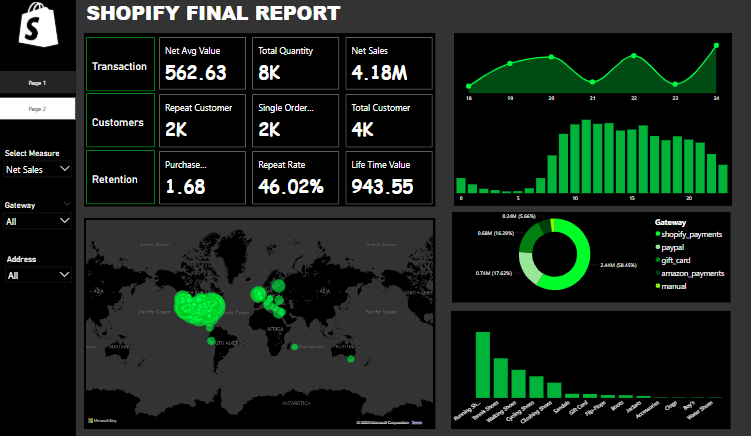

What the dashboard file says about the page in this screenshot:
{"tool":"powerbi","page":{"name":"Page 1","canvas":[1700,1000],"ordinal":0},"visuals":[{"type":"shape","box":[0,0,174.4,1000],"z":0},{"type":"textbox","box":[192.3,0,794.1,86],"z":1000},{"type":"shape","box":[192.5,82.5,795,392.5],"z":2000},{"type":"cardVisual","fields":{"Data":["shopify_sales.Net Avg Value","shopify_sales.Total Quantity","shopify_sales.Net Sales"]},"box":[357.5,86,629,129],"z":3000},{"type":"cardVisual","fields":{"Data":["shopify_sales.TP"]},"box":[192.5,85,165,132.5],"z":4000},{"type":"cardVisual","fields":{"Data":["shopify_sales.RC","shopify_sales.SOC","shopify_sales.TC"]},"box":[357.5,215,630,130],"z":5000},{"type":"cardVisual","fields":{"Data":["shopify_sales.CB"]},"box":[192.5,212.5,165,132.5],"z":6000},{"type":"cardVisual","fields":{"Data":["shopify_sales.Purchase Frequency","shopify_sales.Repeat Rate","shopify_sales.Life Time Value"]},"box":[357.5,345,630,130],"z":7000},{"type":"cardVisual","fields":{"Data":["shopify_sales.Retention"]},"box":[192.5,342.5,165,132.5],"z":8000},{"type":"shape","box":[192.5,500,795,477.5],"z":9000},{"type":"map","fields":{"Size":["Sum(shopify_sales.Billing Address Zip)"],"Category":["shopify_sales.CITY"]},"box":[192.5,500,795,477.5],"z":10000},{"type":"shape","box":[1029.4,81.4,629,391.4],"z":11000},{"type":"areaChart","fields":{"Y":["shopify_sales.Net Sales"],"Category":["shopify_sales.Invoice Date.Variation.Date Hierarchy.Day"]},"box":[1047.5,86,590.5,160.6],"z":12000},{"type":"columnChart","fields":{"Y":["shopify_sales.Net Sales"],"Category":["shopify_sales.Hour"]},"box":[1029.5,247.7,650,227.3],"z":13000},{"type":"shape","box":[1025.6,486,630.2,204.7],"z":14000},{"type":"donutChart","fields":{"Y":["shopify_sales.Net Sales"],"Category":["shopify_sales.Gateway"]},"box":[1025.6,472.1,630.2,218.6],"z":15000},{"type":"shape","box":[1023.3,709.3,632.6,267.4],"z":16000},{"type":"columnChart","fields":{"Y":["shopify_sales.Net Sales"],"Category":["shopify_sales.Product Type"]},"box":[1023.3,690.7,634.9,300],"z":17000},{"type":"image","box":[4.7,7,169.8,111.6],"z":18000},{"type":"slicer","fields":{"Values":["Select Measure.Select Measure"]},"box":[0,337.2,174.4,72.1],"z":19000},{"type":"slicer","fields":{"Values":["shopify_sales.Gateway"]},"box":[0,455.8,174.4,88.4],"z":20000},{"type":"slicer","fields":{"Values":["shopify_sales.Billing Address Province"]},"box":[4.7,576.7,169.8,86],"z":21000},{"type":"pageNavigator","box":[0,166.7,173.3,111.1],"z":22000}]}

Visuals, with their boxes on the page's 1700x1000 design canvas (x1, y1, x2, y2). These are canvas units, not pixel positions in the 751x436 screenshot, which may show the page scaled, cropped or inside an application window:
shape: crop(0, 0, 174, 1000)
textbox: crop(192, 0, 986, 86)
shape: crop(192, 82, 988, 475)
cardVisual - shopify_sales.Net Avg Value x shopify_sales.Total Quantity: crop(358, 86, 986, 215)
cardVisual - shopify_sales.TP: crop(192, 85, 358, 218)
cardVisual - shopify_sales.RC x shopify_sales.SOC: crop(358, 215, 988, 345)
cardVisual - shopify_sales.CB: crop(192, 212, 358, 345)
cardVisual - shopify_sales.Purchase Frequency x shopify_sales.Repeat Rate: crop(358, 345, 988, 475)
cardVisual - shopify_sales.Retention: crop(192, 342, 358, 475)
shape: crop(192, 500, 988, 978)
map - Sum(shopify_sales.Billing Address Zip) x shopify_sales.CITY: crop(192, 500, 988, 978)
shape: crop(1029, 81, 1658, 473)
areaChart - shopify_sales.Net Sales x shopify_sales.Invoice Date.Variation.Date Hierarchy.Day: crop(1048, 86, 1638, 247)
columnChart - shopify_sales.Net Sales x shopify_sales.Hour: crop(1030, 248, 1680, 475)
shape: crop(1026, 486, 1656, 691)
donutChart - shopify_sales.Net Sales x shopify_sales.Gateway: crop(1026, 472, 1656, 691)
shape: crop(1023, 709, 1656, 977)
columnChart - shopify_sales.Net Sales x shopify_sales.Product Type: crop(1023, 691, 1658, 991)
image: crop(5, 7, 174, 119)
slicer - Select Measure.Select Measure: crop(0, 337, 174, 409)
slicer - shopify_sales.Gateway: crop(0, 456, 174, 544)
slicer - shopify_sales.Billing Address Province: crop(5, 577, 174, 663)
pageNavigator: crop(0, 167, 173, 278)
